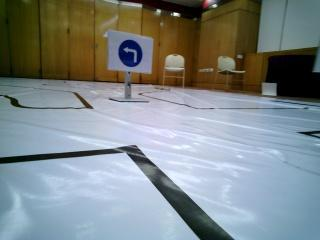left: (111, 34, 153, 72)
